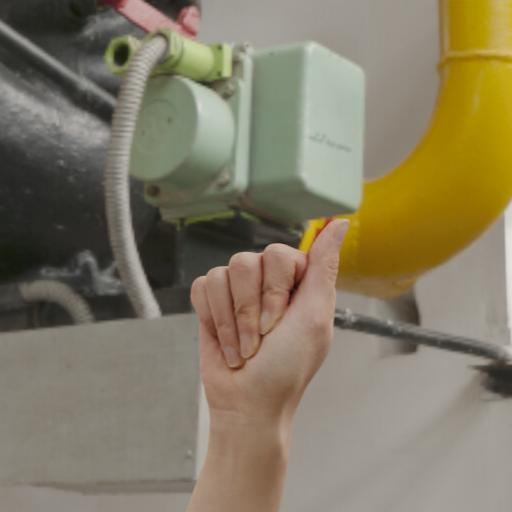A: (171, 206, 366, 512)
